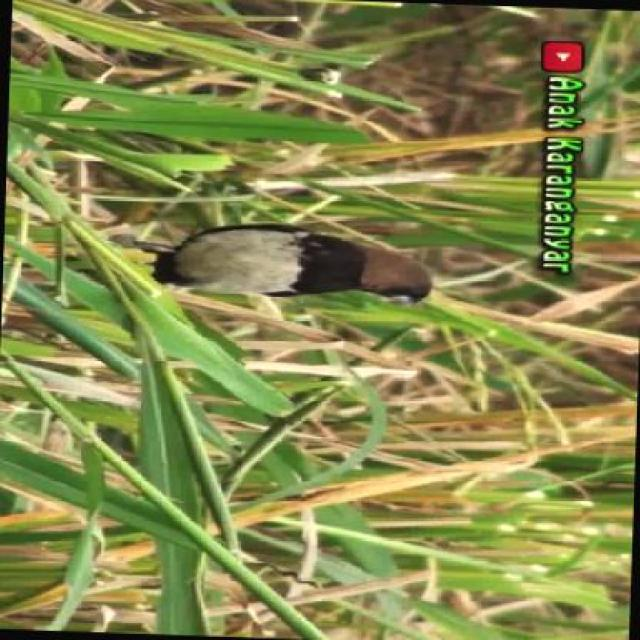Bird: (135, 208, 468, 337)
